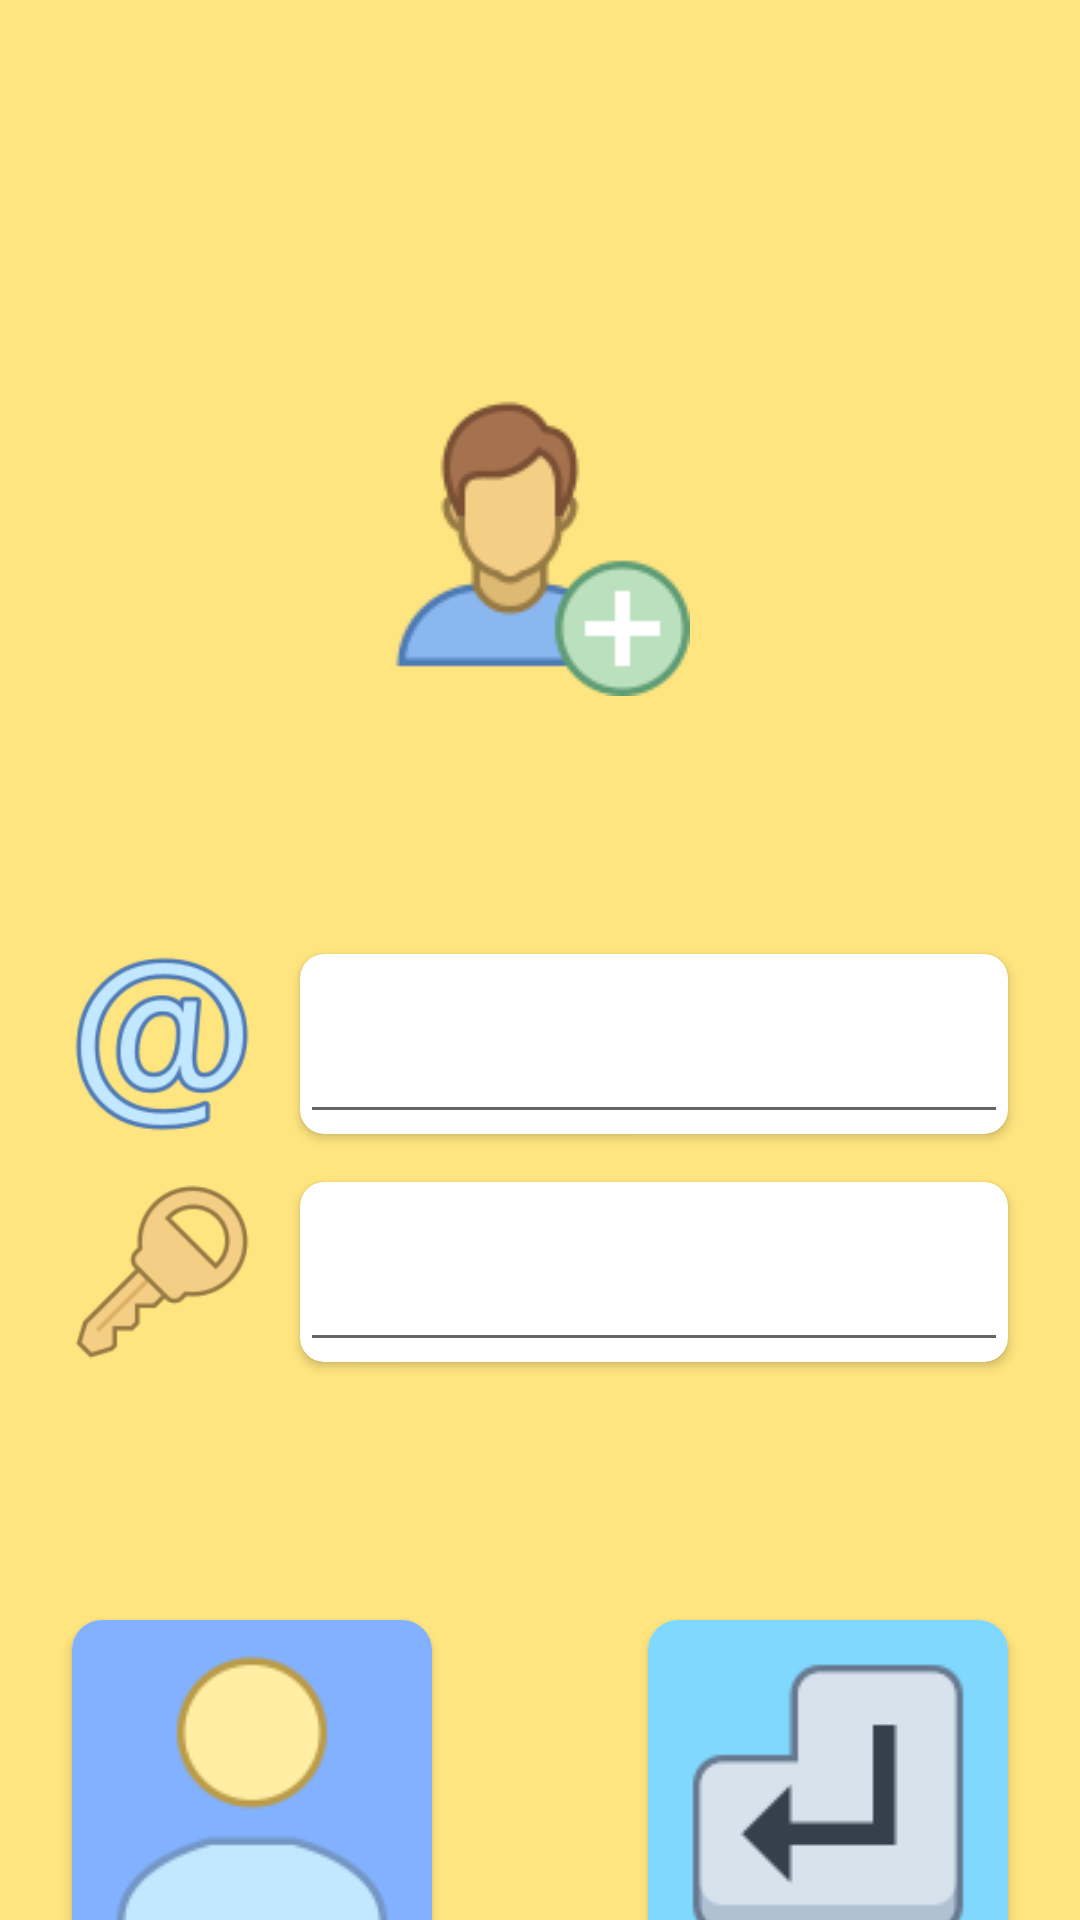

Screen size 1080w x 1920h. Icon name, then its center in pixels as (x=x, y=y):
add user: (x=542, y=549)
email: (x=162, y=1044)
key: (x=162, y=1272)
